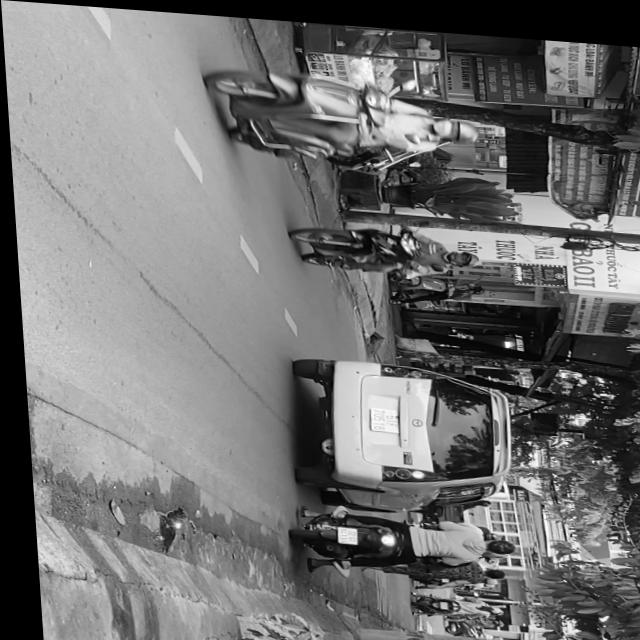helmet: (429, 110, 476, 136), (444, 242, 479, 260)
licenseplate: (203, 58, 481, 174), (283, 499, 514, 579), (285, 212, 482, 275)
motorcyclist: (477, 529, 512, 549)
nohelmet: (329, 523, 350, 540)
